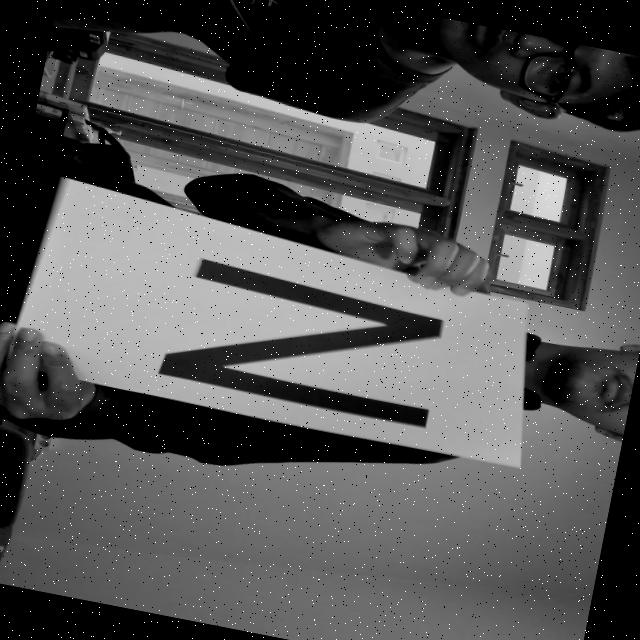n: (134, 233, 464, 450)
